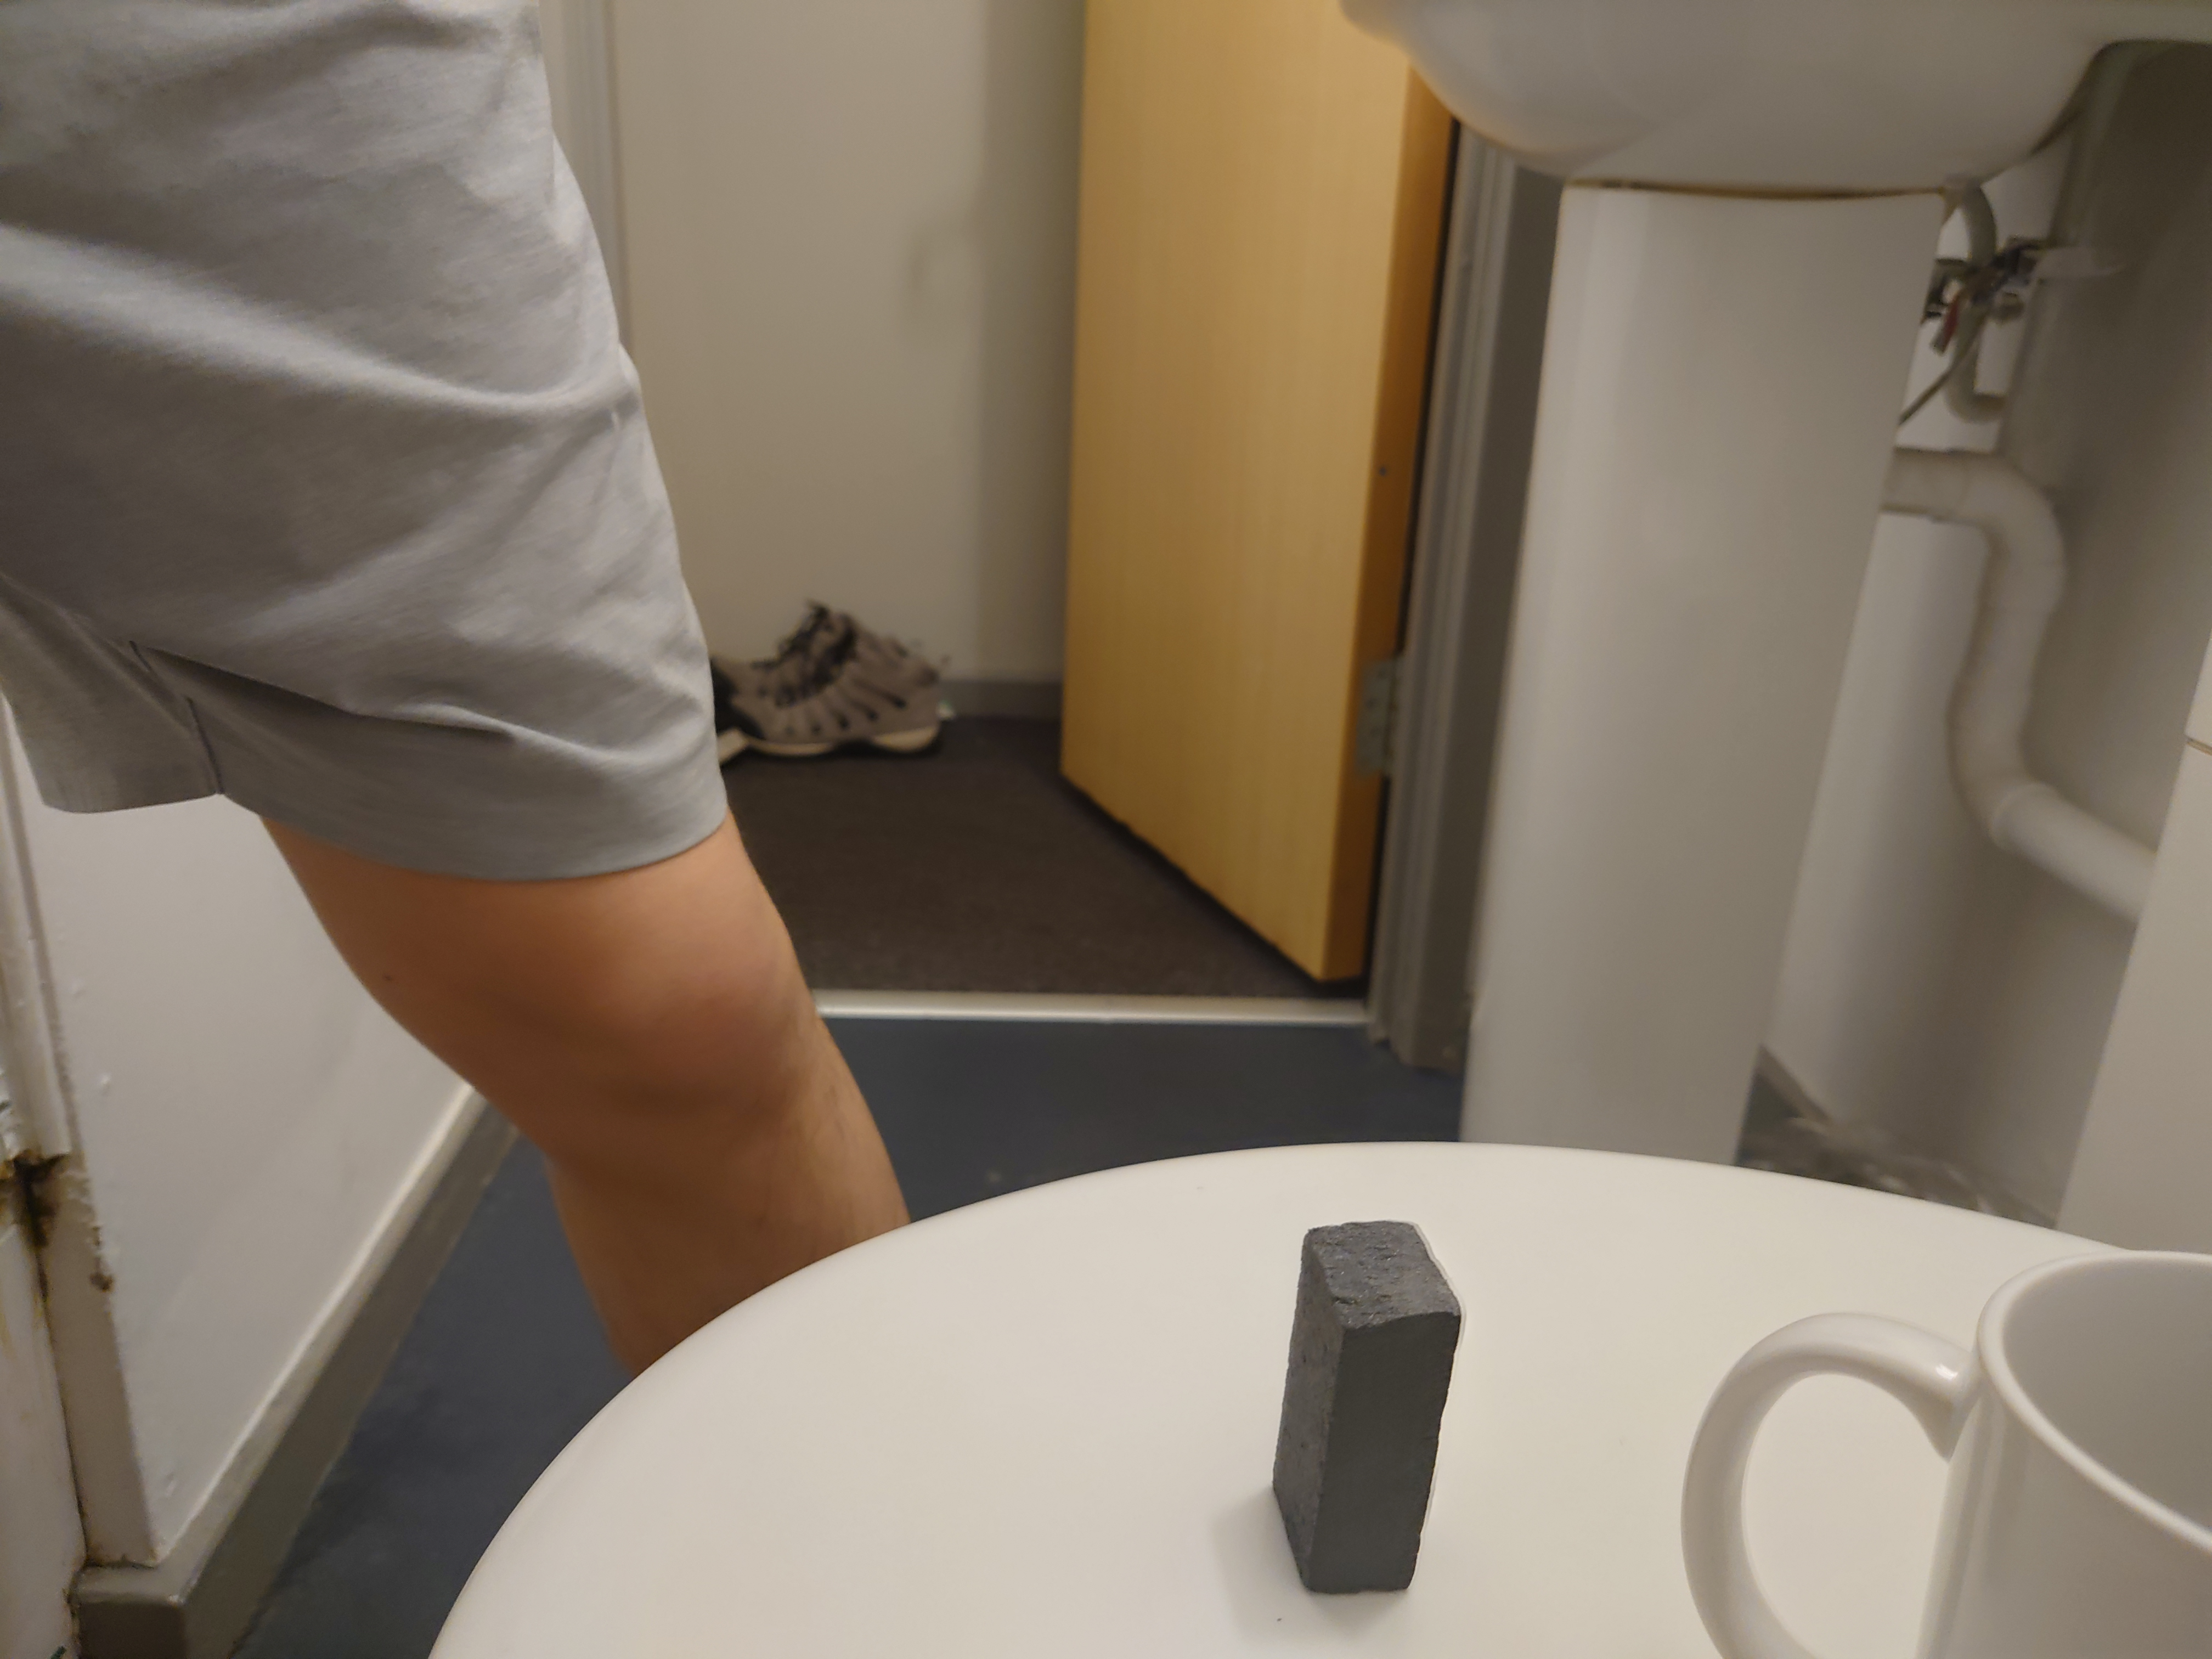cup: (1681, 1244, 2212, 1659)
target: (1264, 1209, 1465, 1598)
